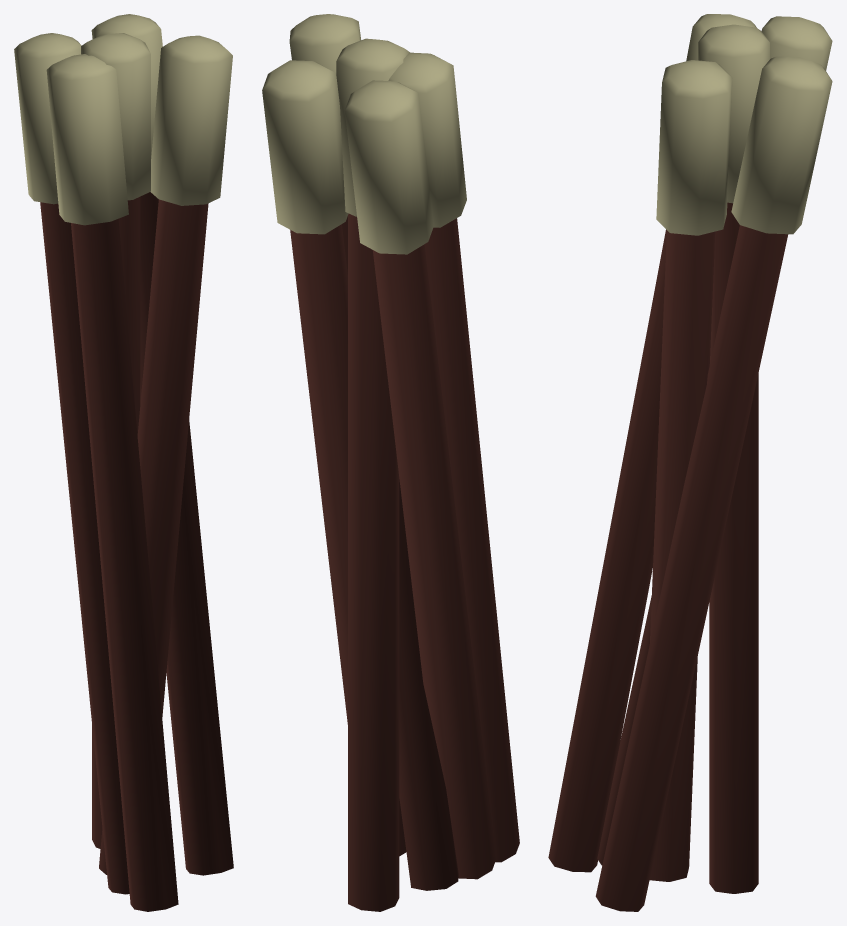
File: PickupTorches.dae
3 views of the same model, side by side, from view 1: azimuth 30°, elevation 25°; view 2: azimuth 150°, elevation 25°; view 3: azimuth 270°, elevation 25° (orthographic). The views are drawn at different scales.
Parts seen in each view (by area): view 1: TorchesPickup; view 2: TorchesPickup; view 3: TorchesPickup.
Part boxes in pixels (x1,y1,x2,y2): TorchesPickup: [14, 14, 233, 911]; TorchesPickup: [262, 14, 519, 911]; TorchesPickup: [548, 14, 832, 911].
Size of the model in its own units: 0.1836 by 0.2677 by 0.8896.
